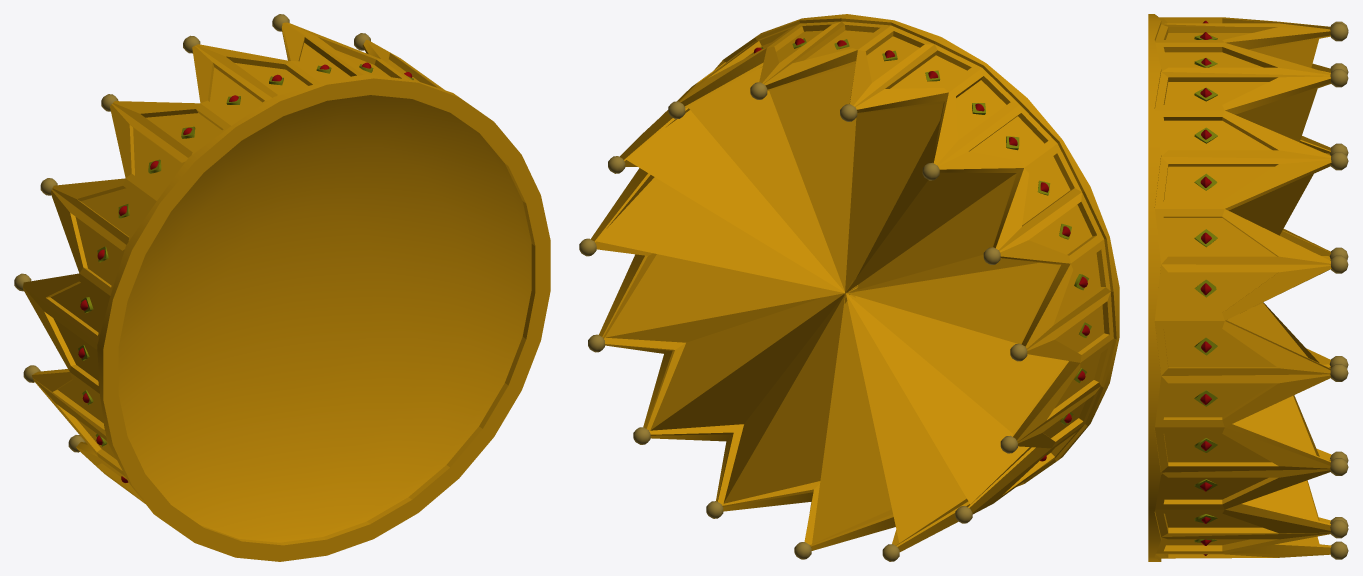
Rendered from queen.FBX.
3 views of the same model, side by side, from view 1: azimuth 30°, elevation 25°; view 2: azimuth 150°, elevation 25°; view 3: azimuth 270°, elevation 25° (orthographic). The views are drawn at different scales.
Parts seen in each view (by area): view 1: queens hat; view 2: queens hat; view 3: queens hat.
Part boxes in pixels (x1,y1,x2,y2): queens hat: (14, 14, 550, 561); queens hat: (579, 14, 1119, 561); queens hat: (1148, 14, 1348, 561).
Bounding box in the file's own units: 18.17 × 6.67 × 18.27.
